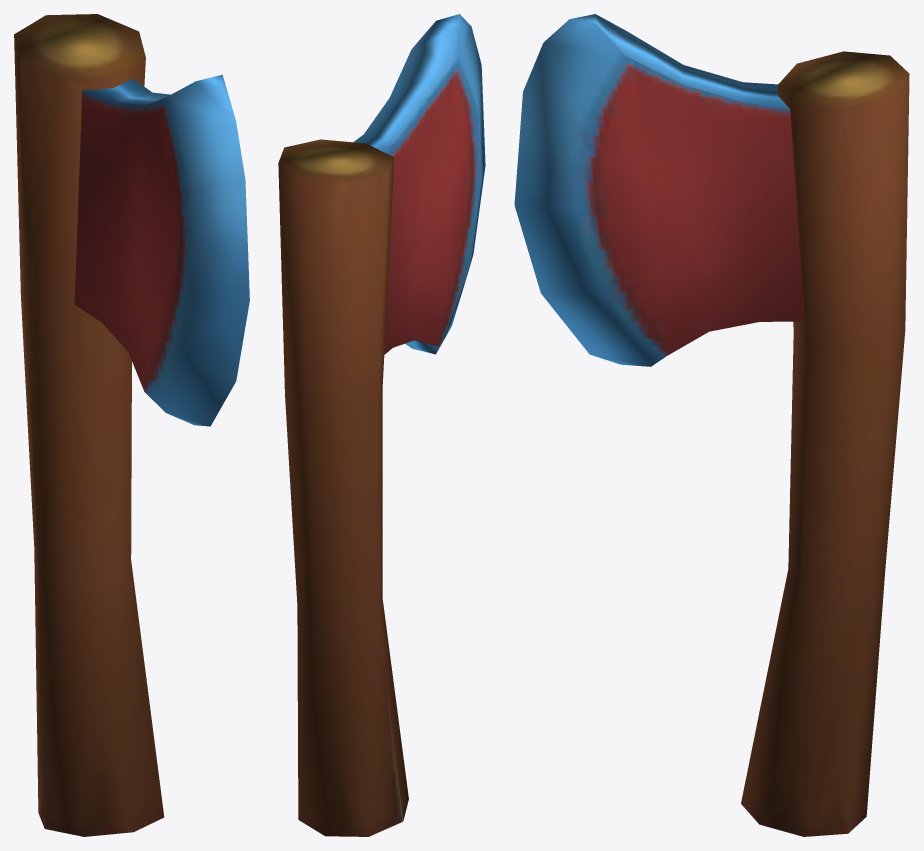
File: LumberjackAxe.fbx
The picture shows the model from 3 angles, left to right: view 1: azimuth 30°, elevation 25°; view 2: azimuth 150°, elevation 25°; view 3: azimuth 270°, elevation 25°; orthographic projection. The views are drawn at different scales.
Visible parts, largest first — view 1: LumberjackAxe; view 2: LumberjackAxe; view 3: LumberjackAxe.
Boxes of the visible parts, x1=… form: LumberjackAxe: x1=14, y1=14, x2=249, y2=836; LumberjackAxe: x1=278, y1=14, x2=485, y2=836; LumberjackAxe: x1=514, y1=14, x2=909, y2=836.
Size of the model in its own units: 0.0921 by 0.612 by 0.2747.
Materials: 1 (1 with a texture image).
